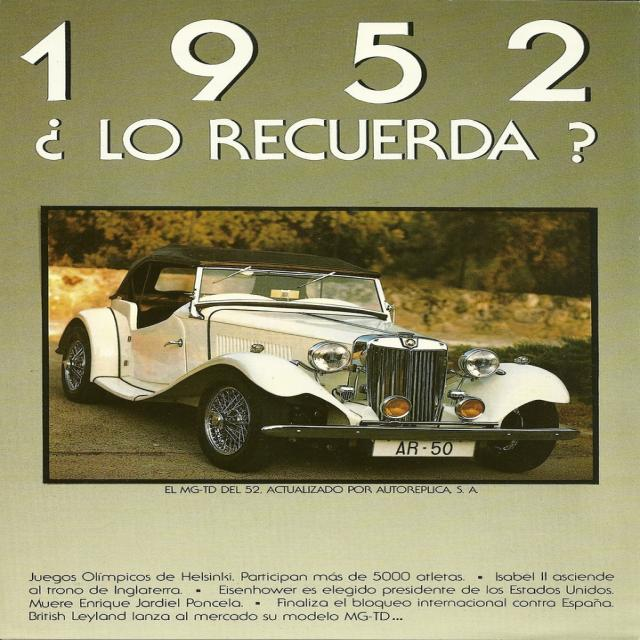car: (69, 250, 551, 474)
